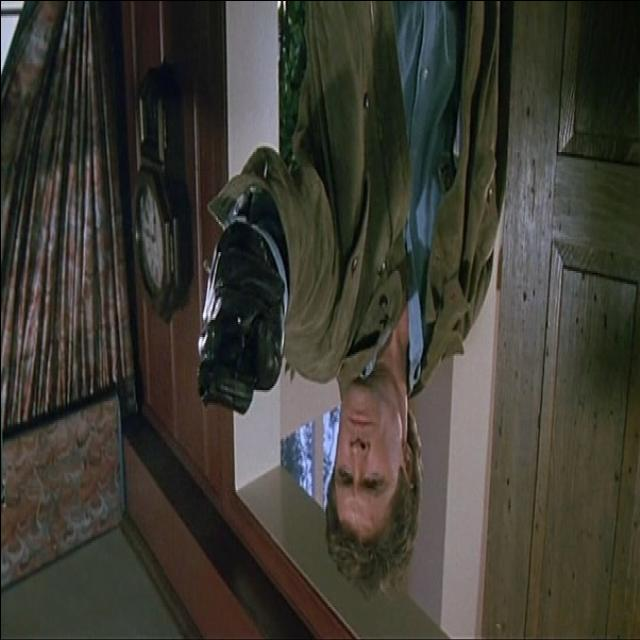weapons: (186, 254, 275, 436)
